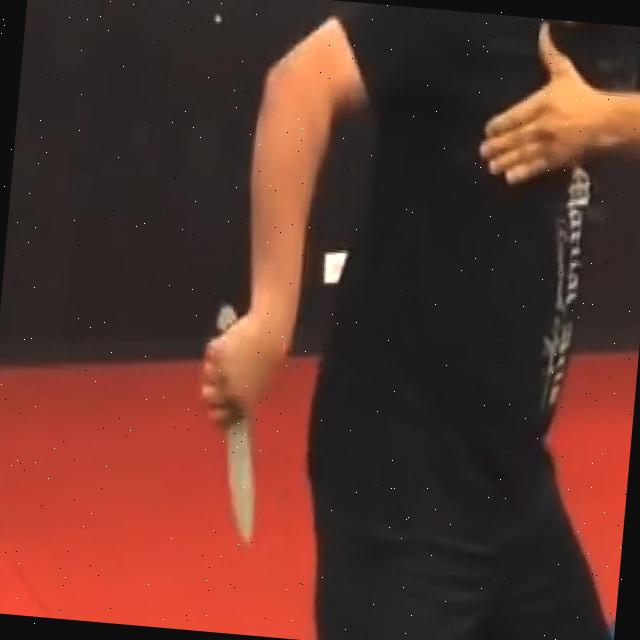suspicion: (180, 0, 408, 572), (216, 418, 269, 558), (212, 300, 242, 334)
